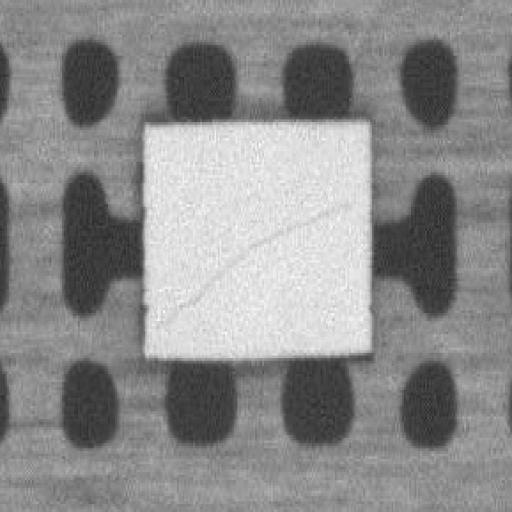DIE_CRACK: (152, 199, 349, 326)
